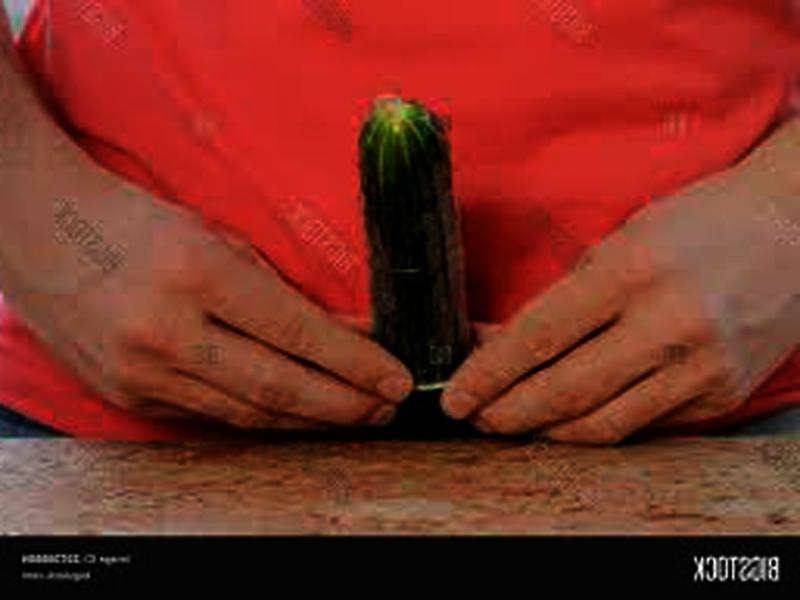Cucumber: (357, 98, 469, 435)
